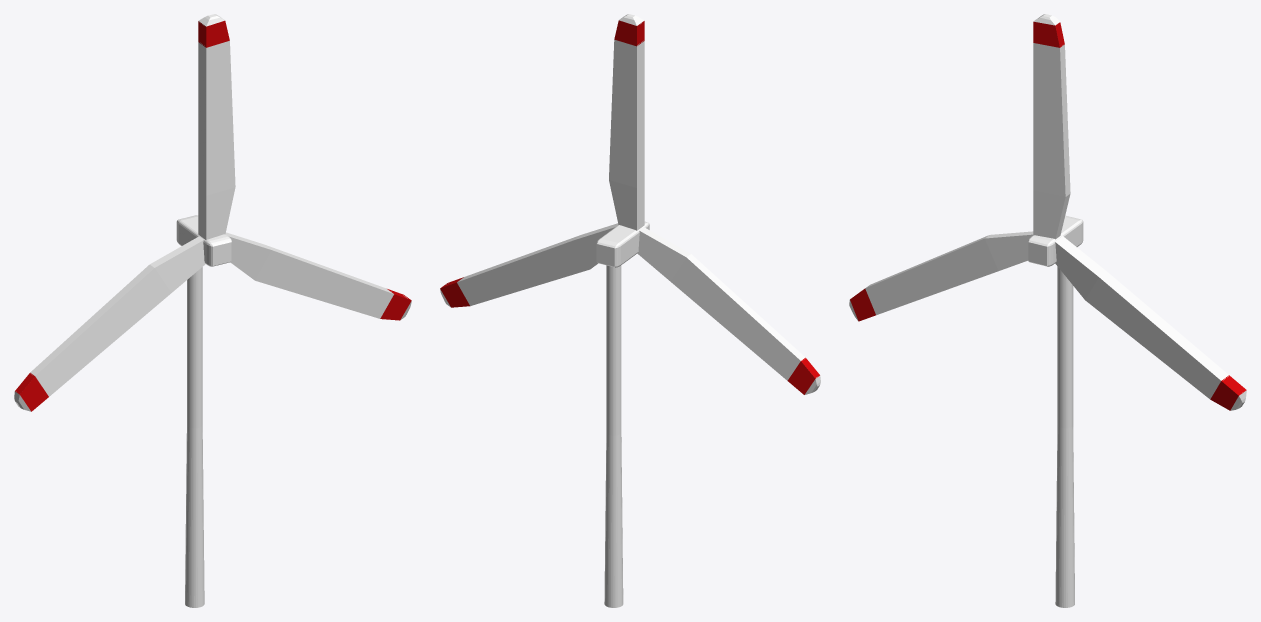
Rendered from wind_turbine.gltf.
3 views of the same model, side by side, from view 1: azimuth 30°, elevation 25°; view 2: azimuth 150°, elevation 25°; view 3: azimuth 330°, elevation 25° (orthographic). The views are drawn at different scales.
Parts seen in each view (by area): view 1: blades, shaft; view 2: blades, shaft; view 3: blades, shaft.
Part boxes in pixels (left/top/right/bottom): blades: left=14, top=14, right=411, bottom=411; shaft: left=176, top=215, right=231, bottom=607; blades: left=440, top=14, right=820, bottom=394; shaft: left=596, top=221, right=649, bottom=607; blades: left=849, top=14, right=1246, bottom=410; shaft: left=1028, top=215, right=1083, bottom=607.
Bounding box in the file's own units: 11.49 × 16.81 × 1.82.
Materials: 2 (2 with a texture image).
